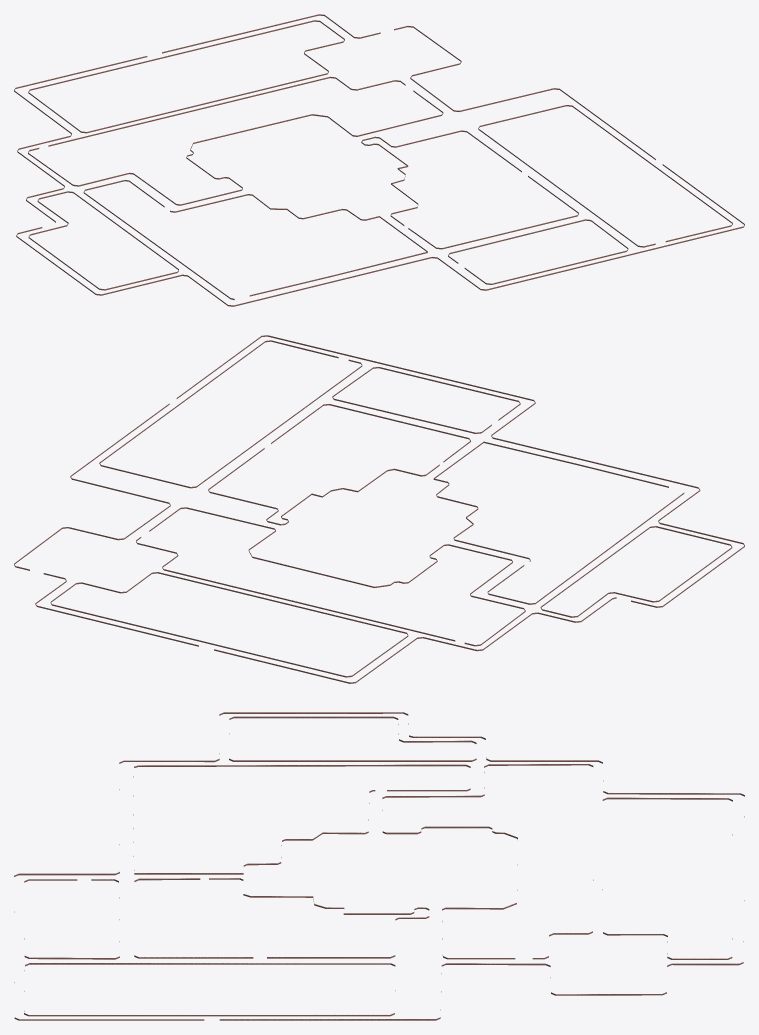
File: Walls.FBX
3 renders of one model, top to bottom at view 1: azimuth 30°, elevation 25°; view 2: azimuth 150°, elevation 25°; view 3: azimuth 270°, elevation 25°, orthographic. The views are drawn at different scales.
Visible parts, largest first — view 1: Line005; view 2: Line005; view 3: Line005.
Part boxes in pixels (x1,y1,x2,y2): Line005: (14,14,744,306); Line005: (14,335,744,683); Line005: (14,712,744,1020).
Bounding box in the file's own units: 2042 × 5.08 × 2055.
Materials: 1 (1 with a texture image).
